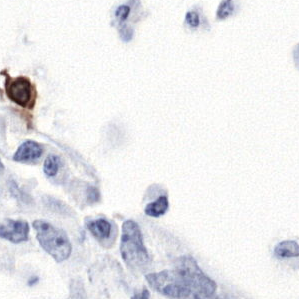Lymphocyte: (6, 75, 37, 110)
